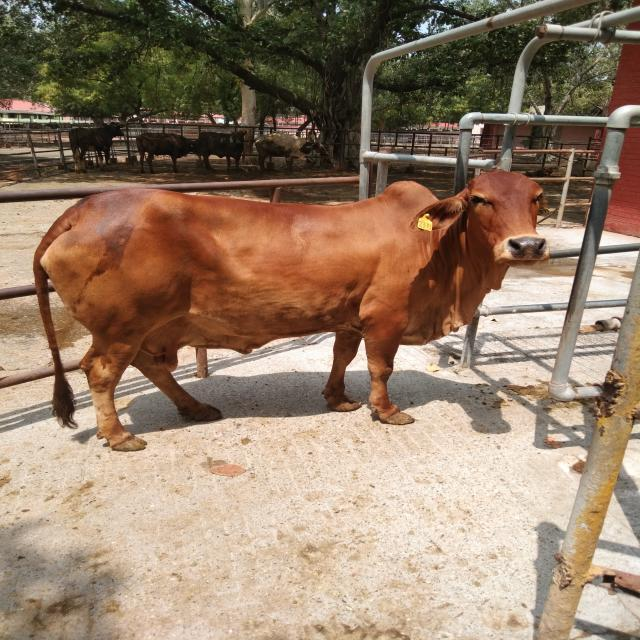1: (354, 179, 451, 202)
Hoof: (110, 436, 147, 451), (192, 404, 222, 422), (379, 410, 414, 425), (326, 398, 361, 412)
